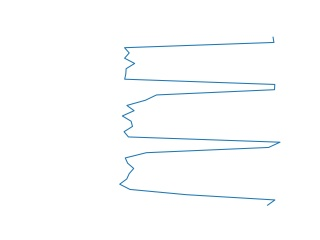majorRiverChannelBar: (116, 35, 286, 209)
